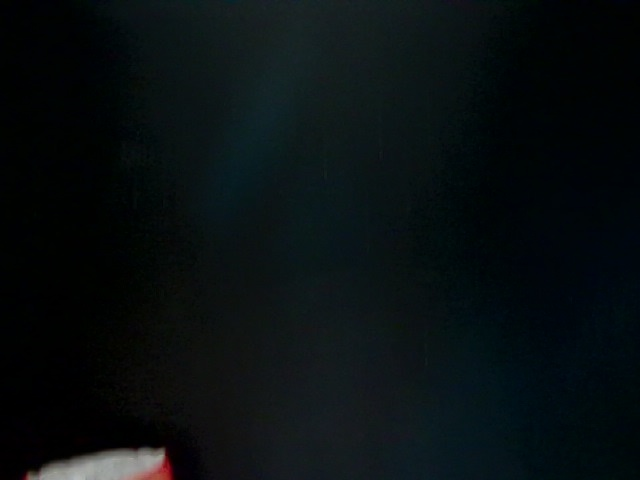CYLJ: (17, 446, 167, 480)
